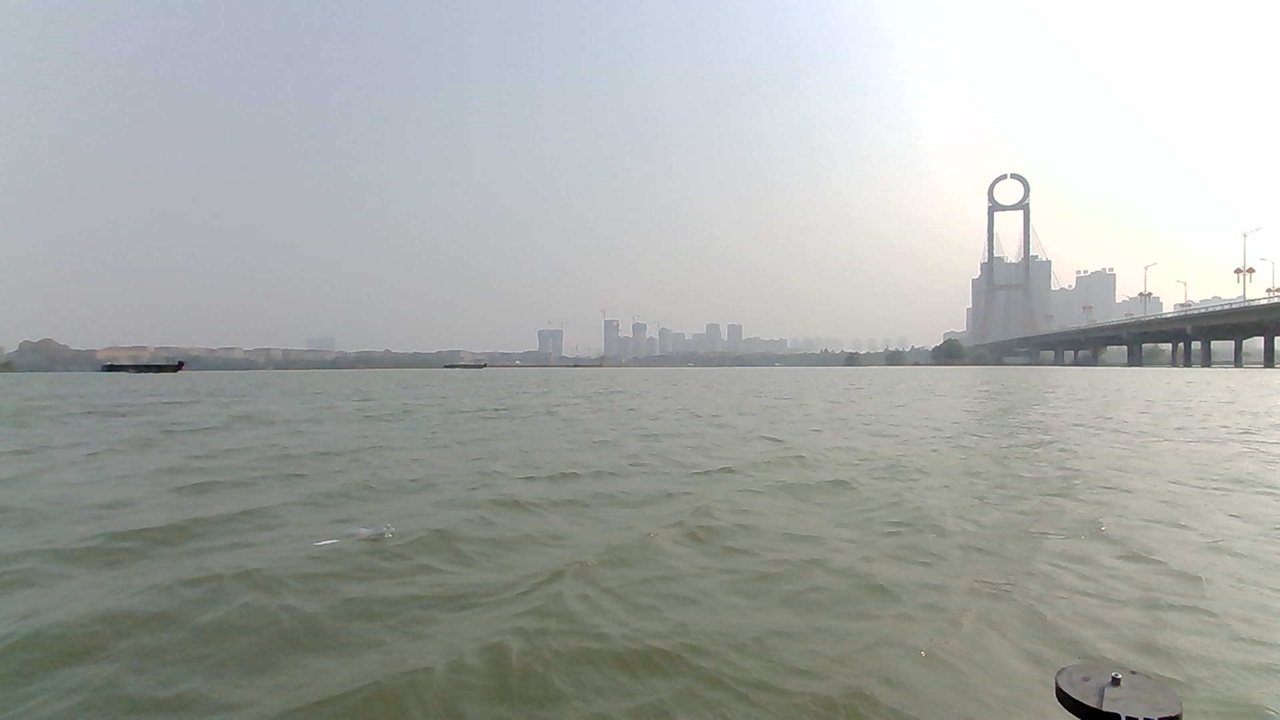bottle: (242, 509, 392, 573)
